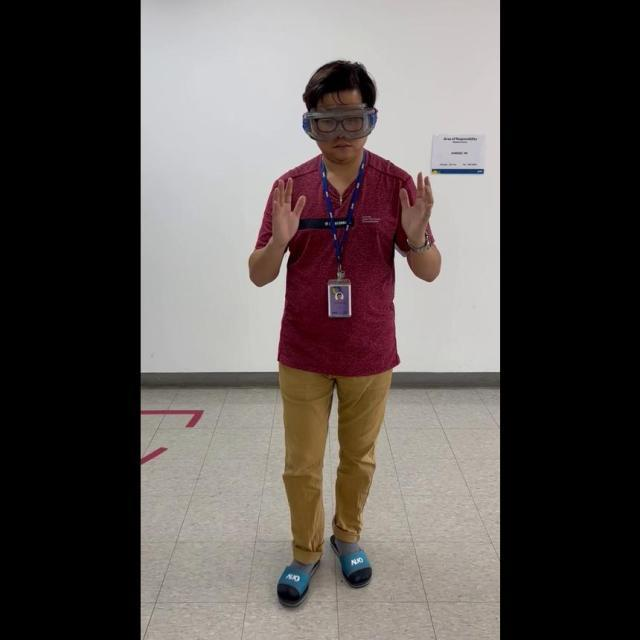bare_hand: (398, 164, 435, 249), (262, 174, 304, 245)
